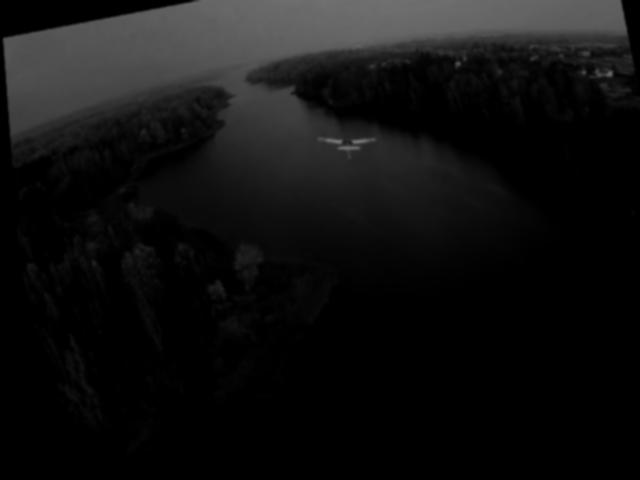hedef: (304, 121, 385, 173)
